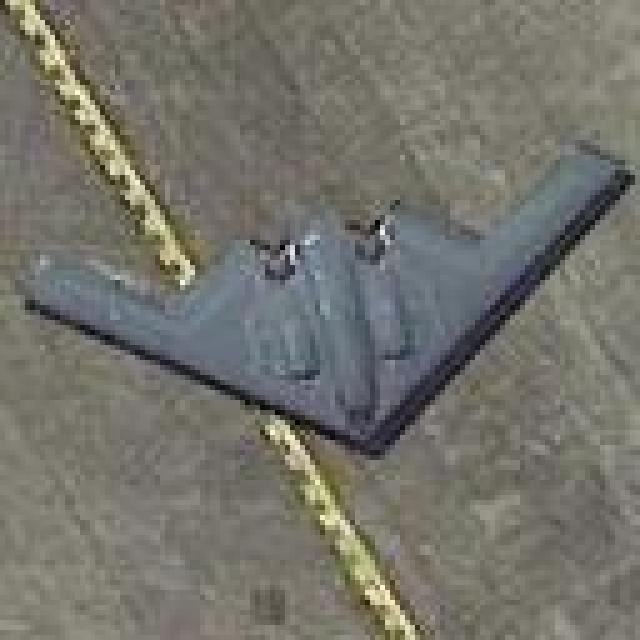B-2_TopDown: (10, 130, 635, 460)
